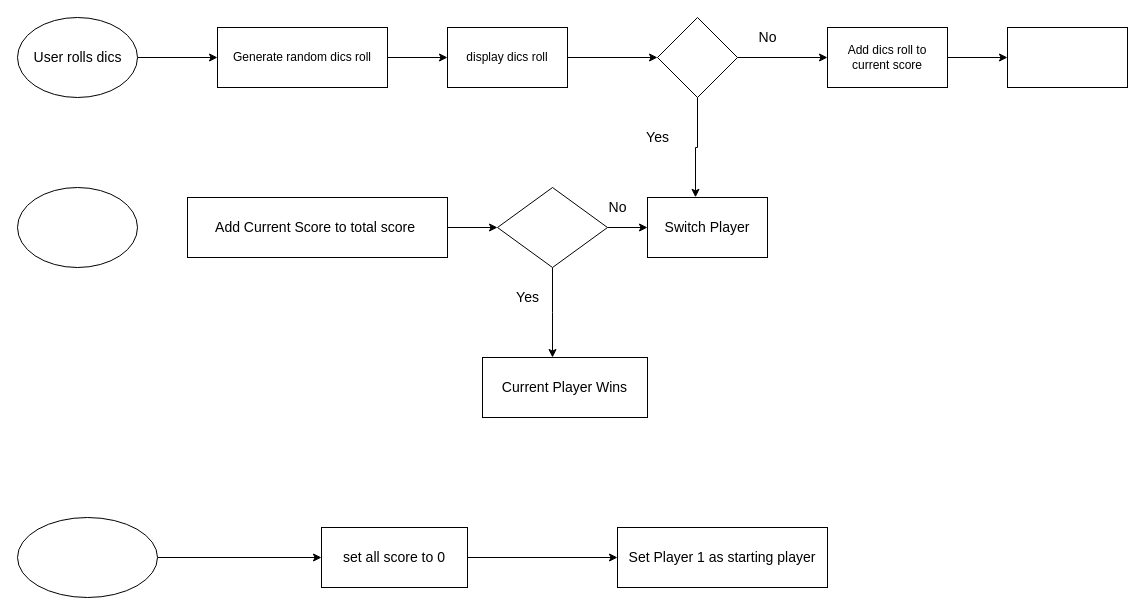
Image size: 1145x615. Some labels were removed from this diagram. Each missing label, with the centre of its shape:
"display new score" goes at [1067,57].
"Is it a 1 ?" goes at [697,57].
"score >= 100" goes at [552,227].
"user holds score" goes at [77,227].
"User resets game" goes at [87,557].
